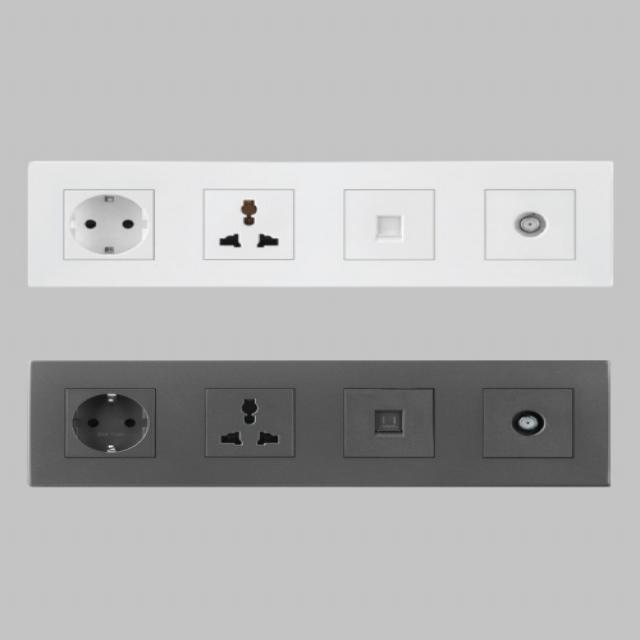typeb: (20, 146, 173, 312), (27, 351, 190, 505)
